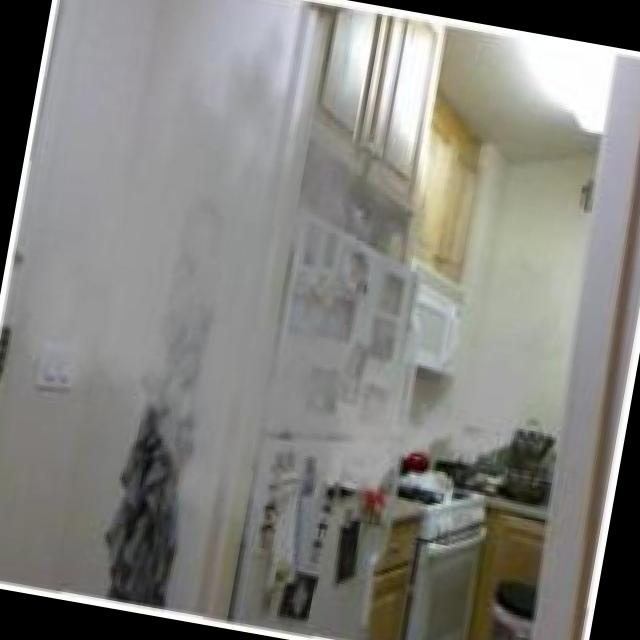Smoke: (0, 0, 614, 593)
